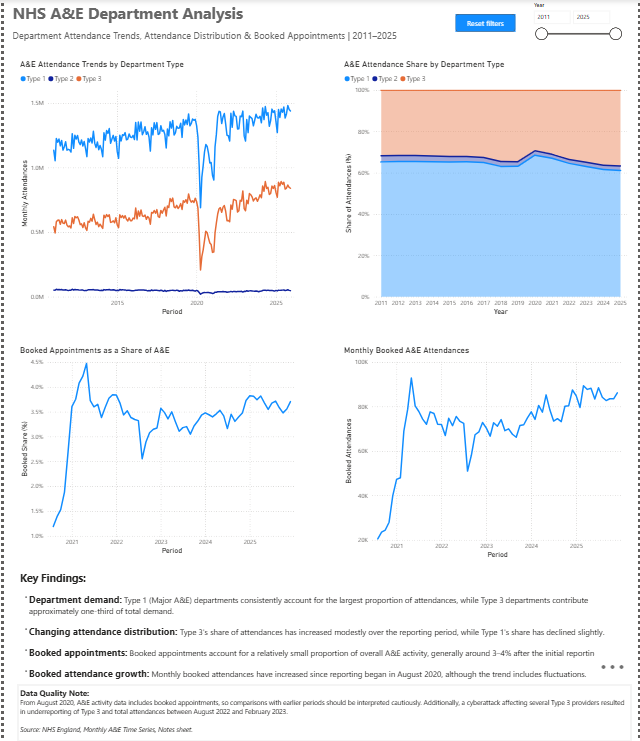

The dashboard page shown, as its layout file describes it:
{"tool":"powerbi","page":{"name":"Department and booked appointments","canvas":[1280,1500],"ordinal":3},"visuals":[{"type":"lineChart","title":"A&E Attendance Trends by Department Type","fields":{"Category":["DimDate.Period"],"Y":["Activity.Type 1 attendances","Activity.Type 2 attendances","Activity.Type 3 attendances"]},"box":[26.5,121,569.5,523.4],"z":0},{"type":"hundredPercentStackedAreaChart","title":"A&E Attendance Share by Department Type","fields":{"Category":["DimDate.Year"],"Y":["Activity.Type 1 attendances","Activity.Type 2 attendances","Activity.Type 3 attendances"]},"box":[682.5,121,583.3,523.4],"z":1000},{"type":"lineChart","title":"Booked Appointments as a Share of A&E","fields":{"Category":["DimDate.Period"],"Y":["Booking.Booked share of A&E %"]},"box":[26.5,700.9,569.5,427.7],"z":2000},{"type":"lineChart","title":"Monthly Booked A&E Attendances","fields":{"Category":["DimDate.Period"],"Y":["Booking.Total booked attendances"]},"box":[682.5,700.9,575.3,435.8],"z":3000},{"type":"textbox","box":[11.8,0,492.4,55.5],"z":4000},{"type":"textbox","box":[11.9,55.7,804.4,42.5],"z":5000},{"type":"slicer","fields":{"Values":["DimDate.Year"]},"box":[1058.3,0,199.4,98],"z":6000},{"type":"textbox","box":[27.9,1148.2,1251.7,238.9],"z":7000},{"type":"textbox","box":[26.5,1387.1,1239.7,112.8],"z":8000},{"type":"actionButton","box":[914.2,31.1,121,35.7],"z":9000}]}

Visuals, with their boxes in screenshot pixels (x1, y1, x2, y2), scaled from the page's 1280x1500 canvas onto the 640x741 screenshot:
"A&E Attendance Trends by Department Type" lineChart: detection(13, 60, 298, 318)
"A&E Attendance Share by Department Type" hundredPercentStackedAreaChart: detection(341, 60, 633, 318)
"Booked Appointments as a Share of A&E" lineChart: detection(13, 346, 298, 558)
"Monthly Booked A&E Attendances" lineChart: detection(341, 346, 629, 562)
textbox: detection(6, 0, 252, 27)
textbox: detection(6, 28, 408, 49)
slicer - DimDate.Year: detection(529, 0, 629, 48)
textbox: detection(14, 567, 639, 685)
textbox: detection(13, 685, 633, 740)
actionButton: detection(457, 15, 518, 33)
